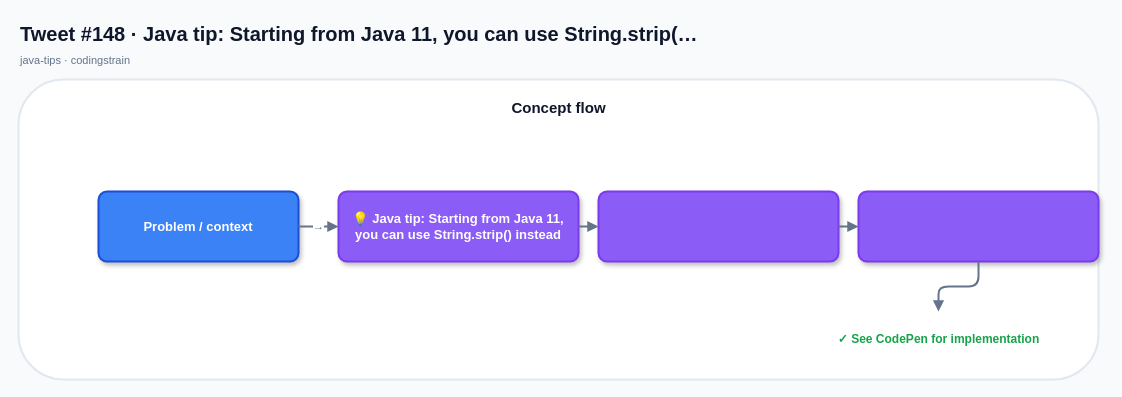
Image size: 1122x397. Some labels were removed from this diagram. Here are the shapes that lost their labels. From the top down, the centre of each, then its label:
the point at 719,227: #Java #JavaTips
the point at 979,227: Runnable sample: `java-tips`
